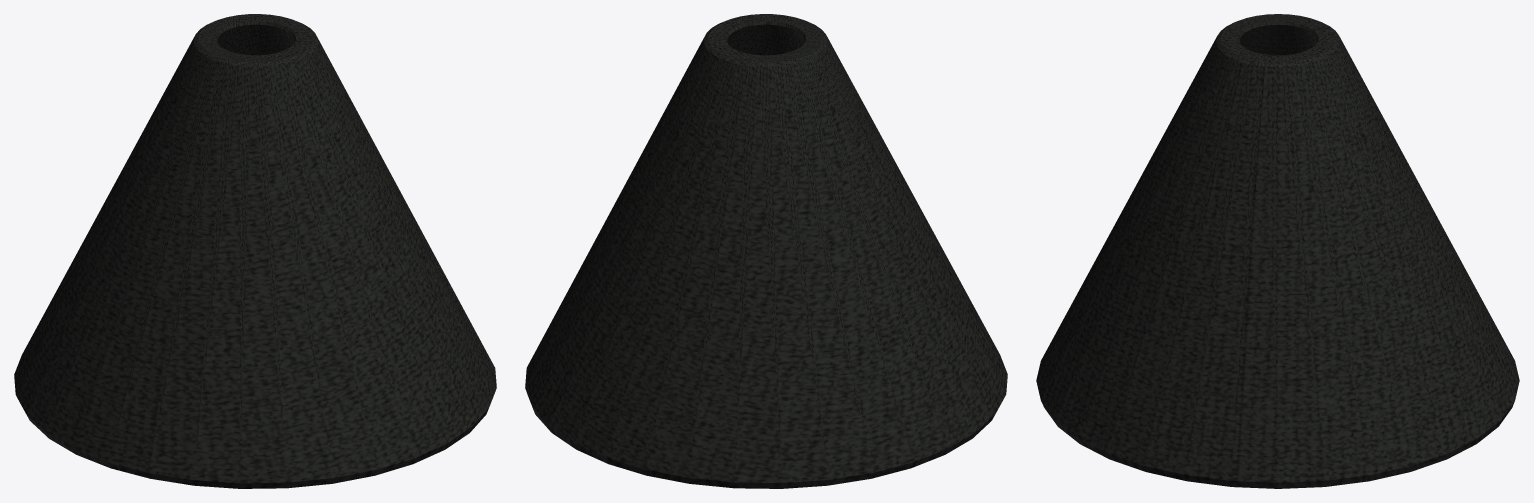
The model's file is loft_lamp.glb.
The picture shows the model from 3 angles, left to right: view 1: azimuth 30°, elevation 25°; view 2: azimuth 150°, elevation 25°; view 3: azimuth 270°, elevation 25°; orthographic projection.
Parts seen in each view (by area): view 1: Lamp.001; view 2: Lamp.001; view 3: Lamp.001.
Part boxes in pixels (box(x1,y1,x2,y2)): Lamp.001: box(14, 14, 496, 488); Lamp.001: box(525, 14, 1007, 488); Lamp.001: box(1036, 14, 1519, 488).
Size of what is drawn, in the model's own units: 0.4469 by 0.3568 by 0.4469.
1 material, 1 textured.
